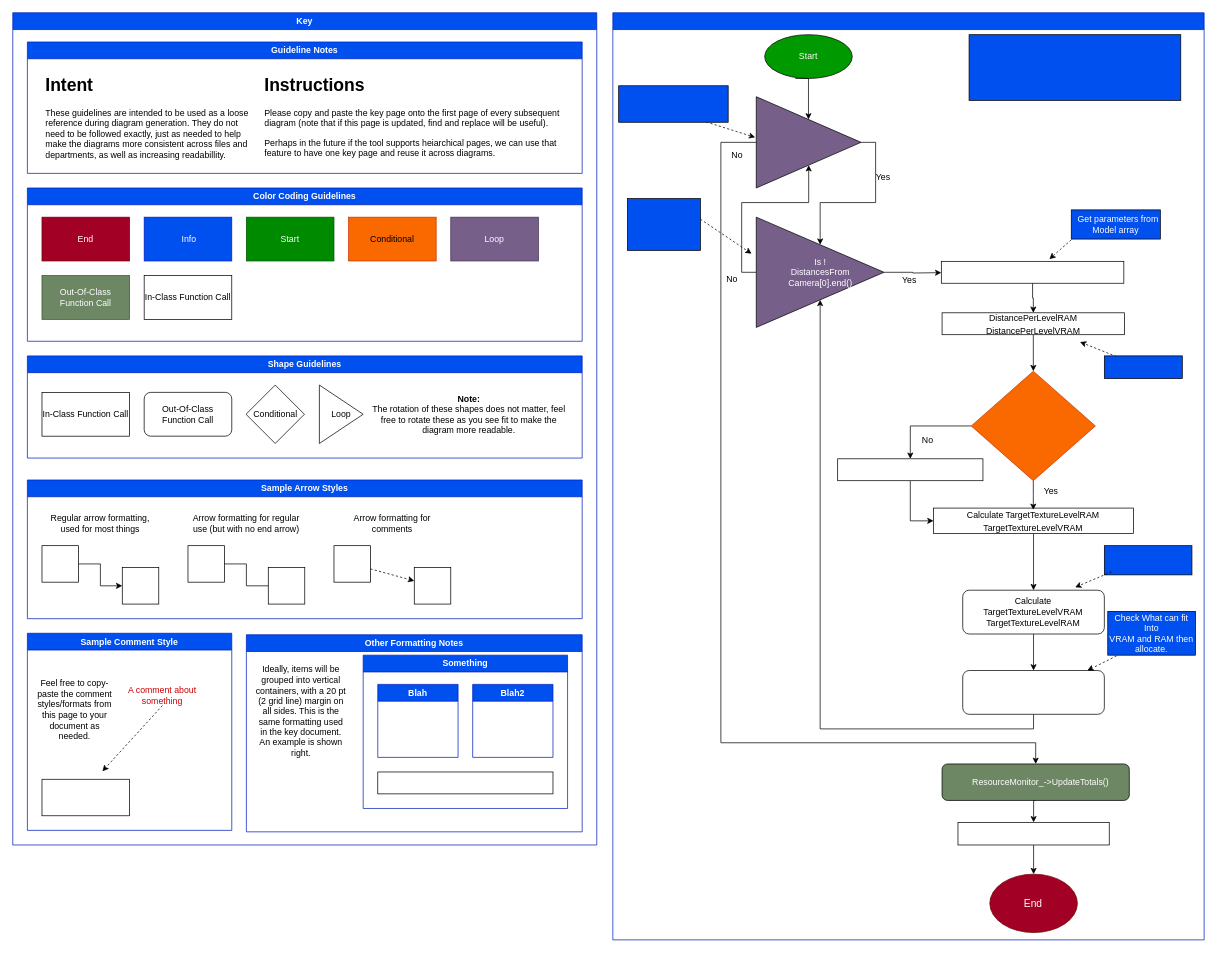
This 1217x953 diagram has some shape labels left out. Here are the shapes that lost their labels. From the top down, the centre of each, then its label:
At point (1074, 67): "Overview Iterates all models in the scene and sorts what they should be doing.".
At point (673, 103): "Iterate Over All Cameras, Make recomendations from There".
At point (808, 142): "CameraUpdates Quota.size()".
At point (663, 224): "Iterates over models".
At point (1032, 272): "ERS_STRUCT_Model".
At point (1143, 367): "Calculate Distance Per Level Cutoff".
At point (1033, 425): "Is !UseQuadratic DistanceRolloff_".
At point (910, 469): "Calculate EquationValue".
At point (1148, 560): "Use user Defined LOD Settings if Enabled".
At point (1033, 692): "Calculate Model->TargetTextureLevelVRAM Model->TargetTextureLevelRAM".
At point (85, 797): "Something being commented on".
At point (465, 782): "Note the margins between containers.".
At point (1033, 833): "Call CheckHardwareLimitations()".
